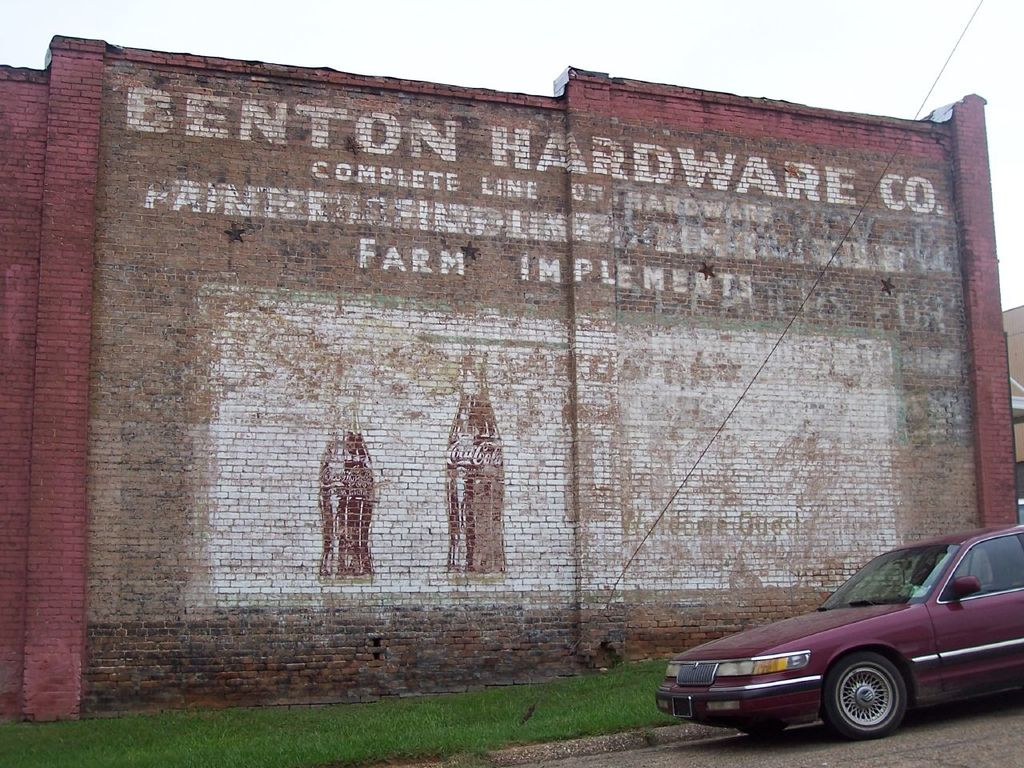Car: (656, 521, 1023, 744)
